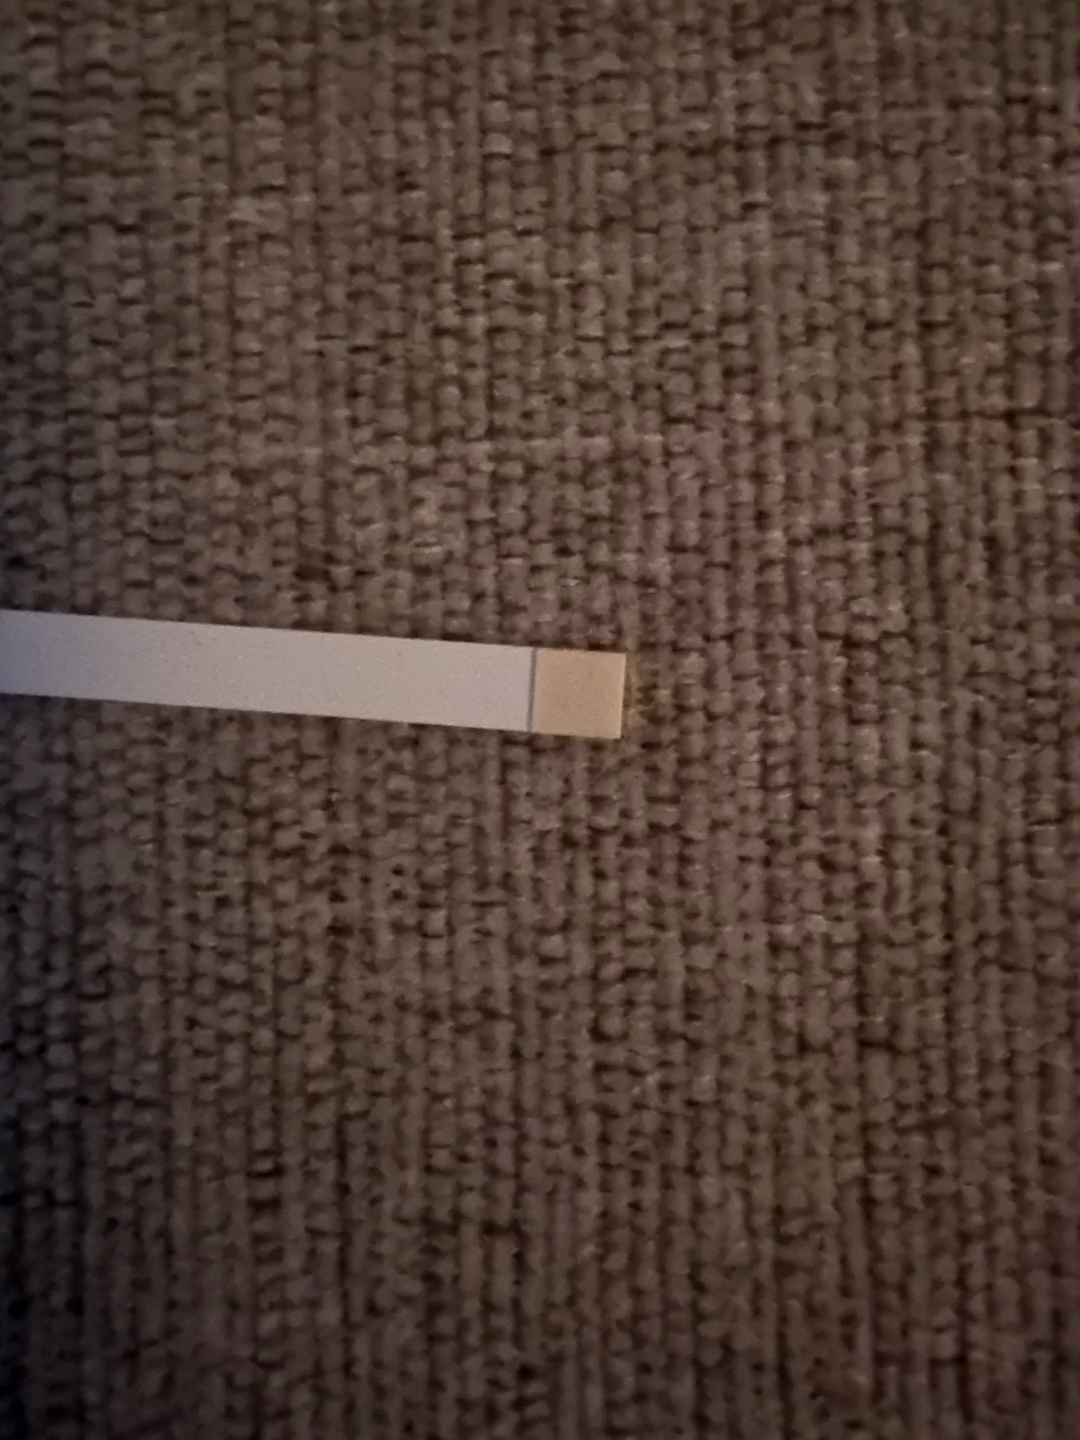keto-tip: (524, 637, 628, 743)
